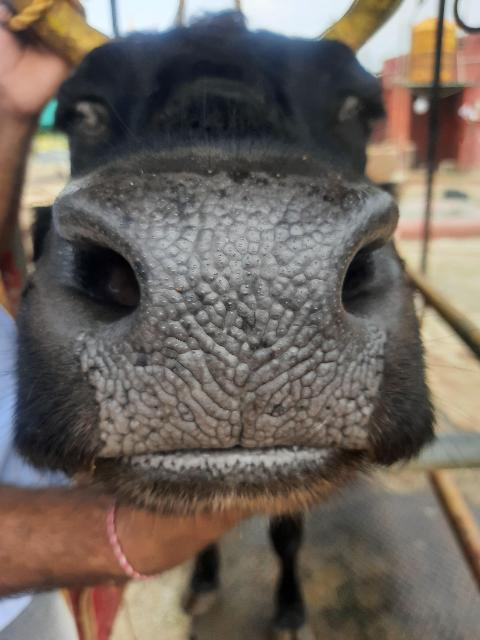Muzzle: (58, 178, 386, 464)
